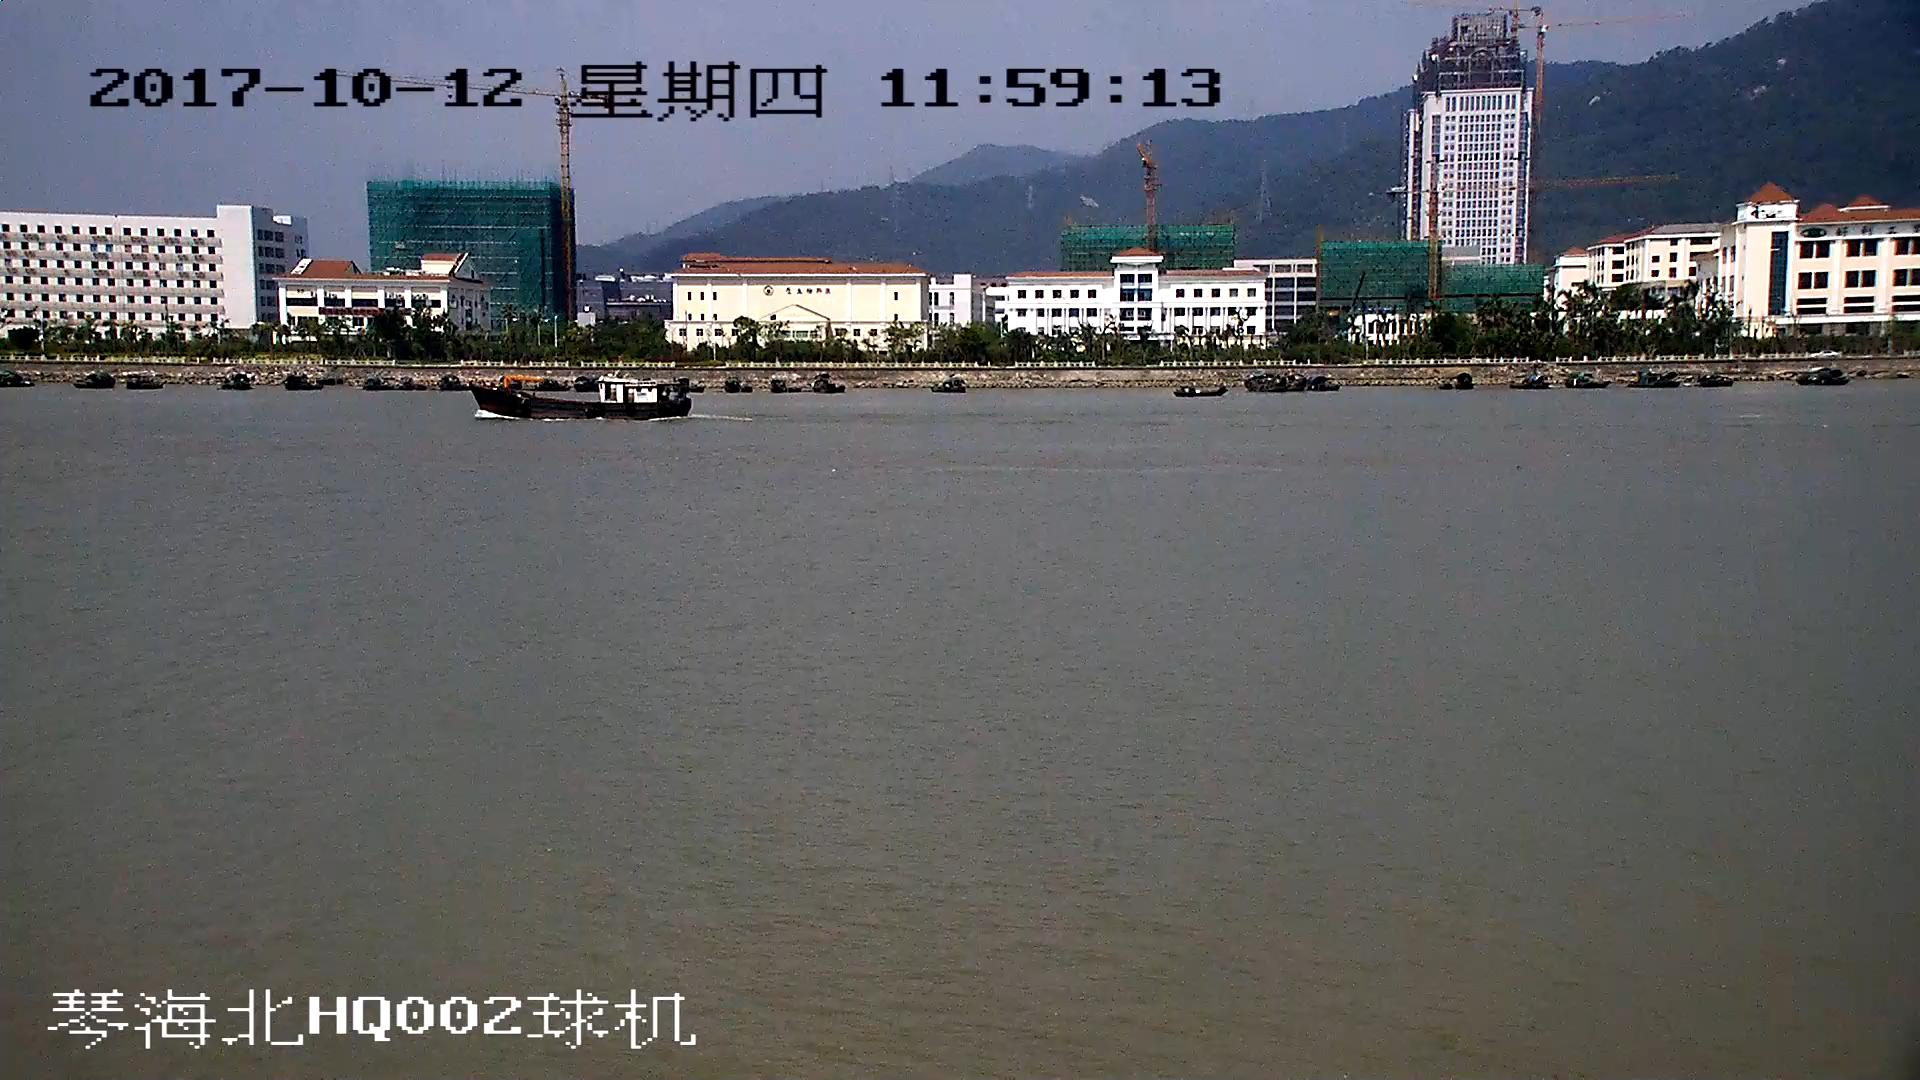fishing boat: (468, 375, 686, 421)
